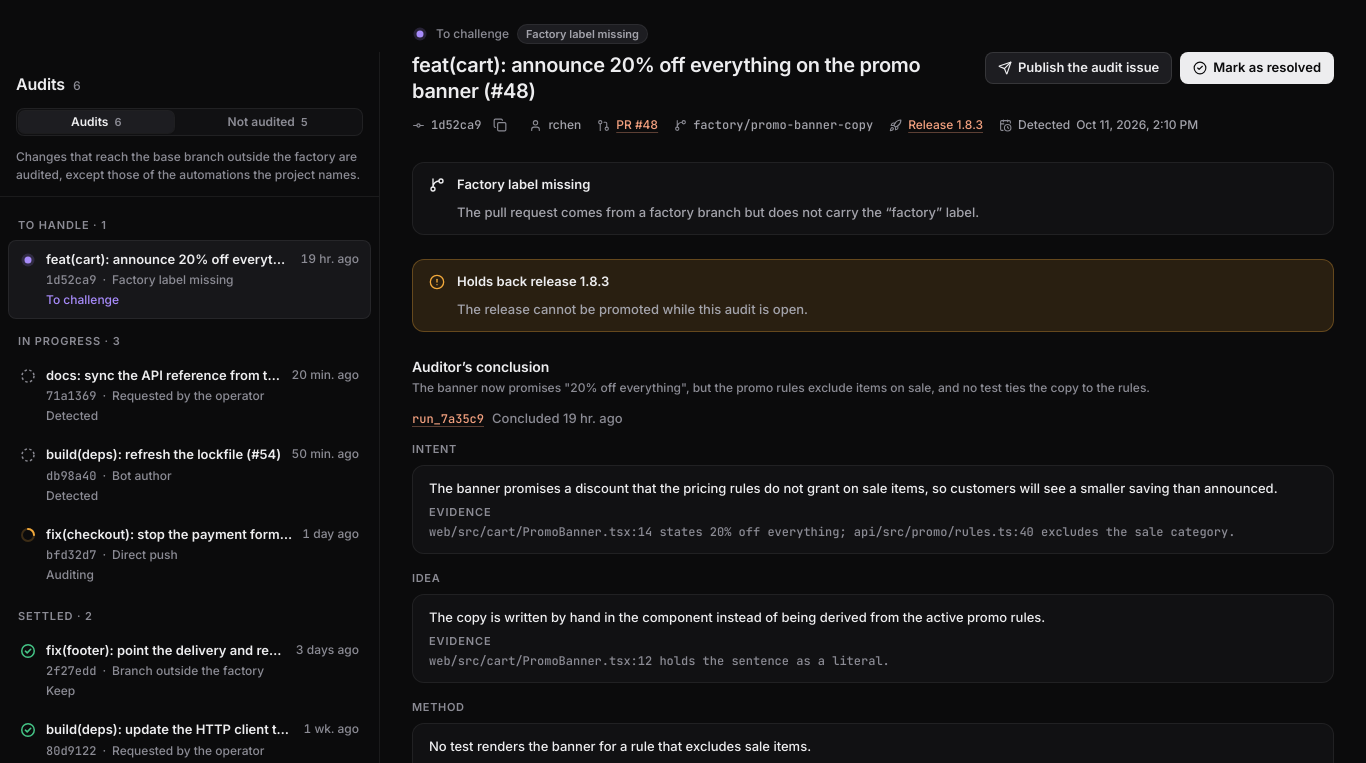
AuditsView changes not audited › goes back to the audits
Click the radio button labelled "Not audited 5" at (268, 122), box 176,111 -> 360,133
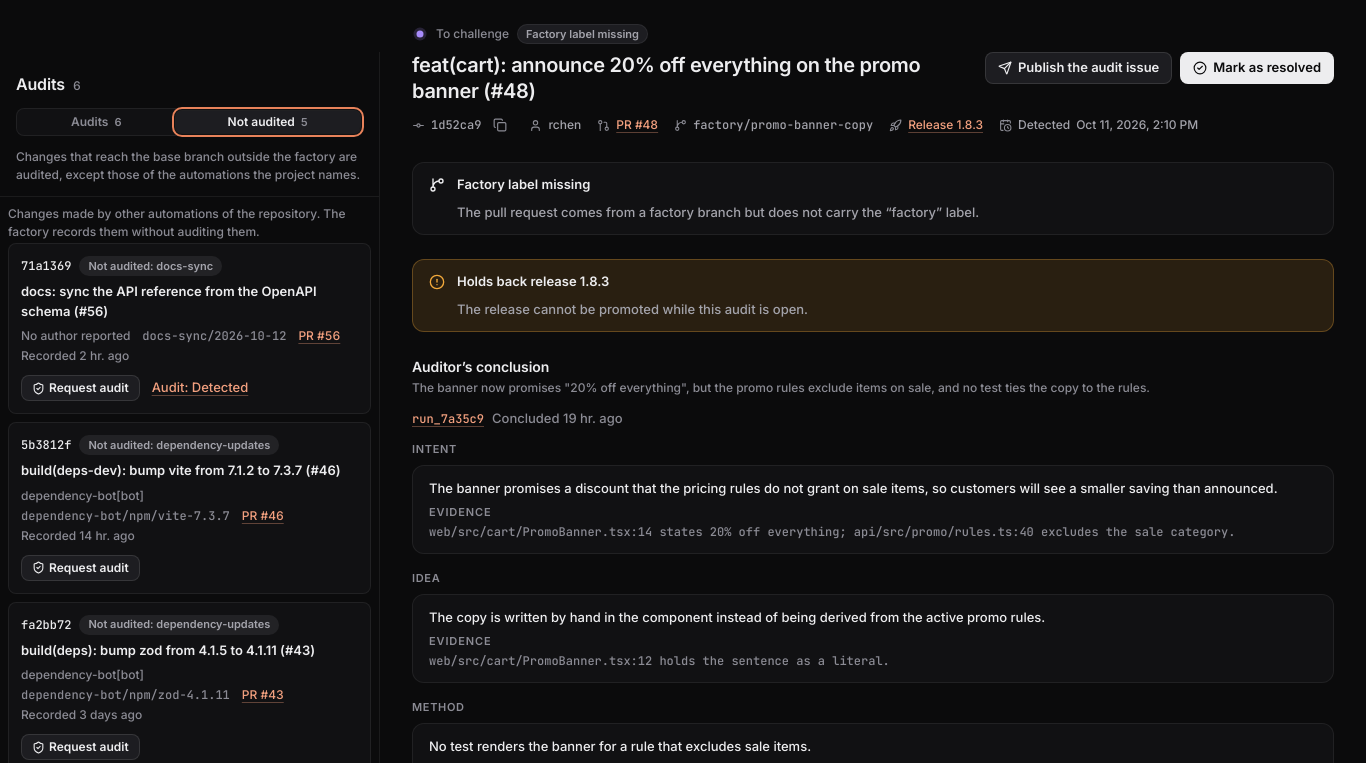
Click the radio button labelled "6 audits" at (96, 122), box 19,111 -> 174,133
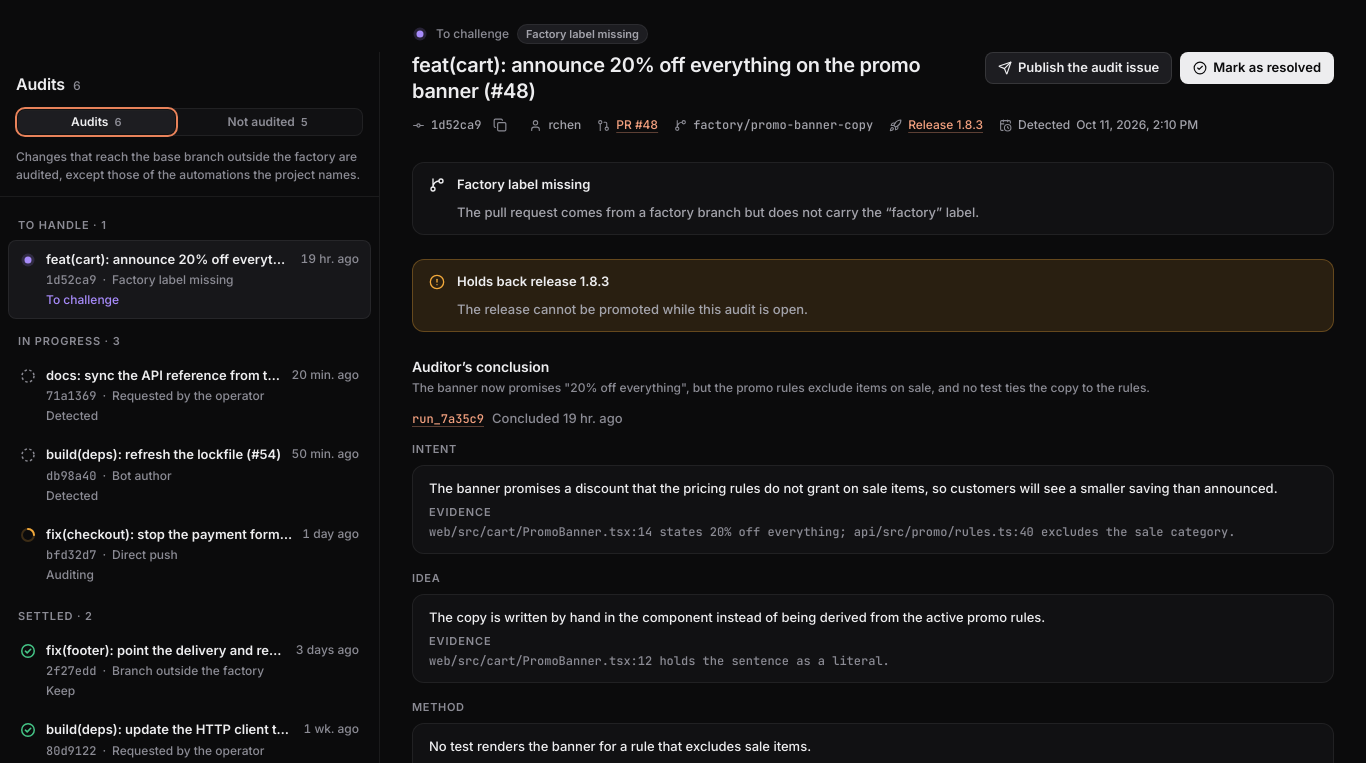
Check: the element "To handle" is shown, box 8,205 -> 371,319
